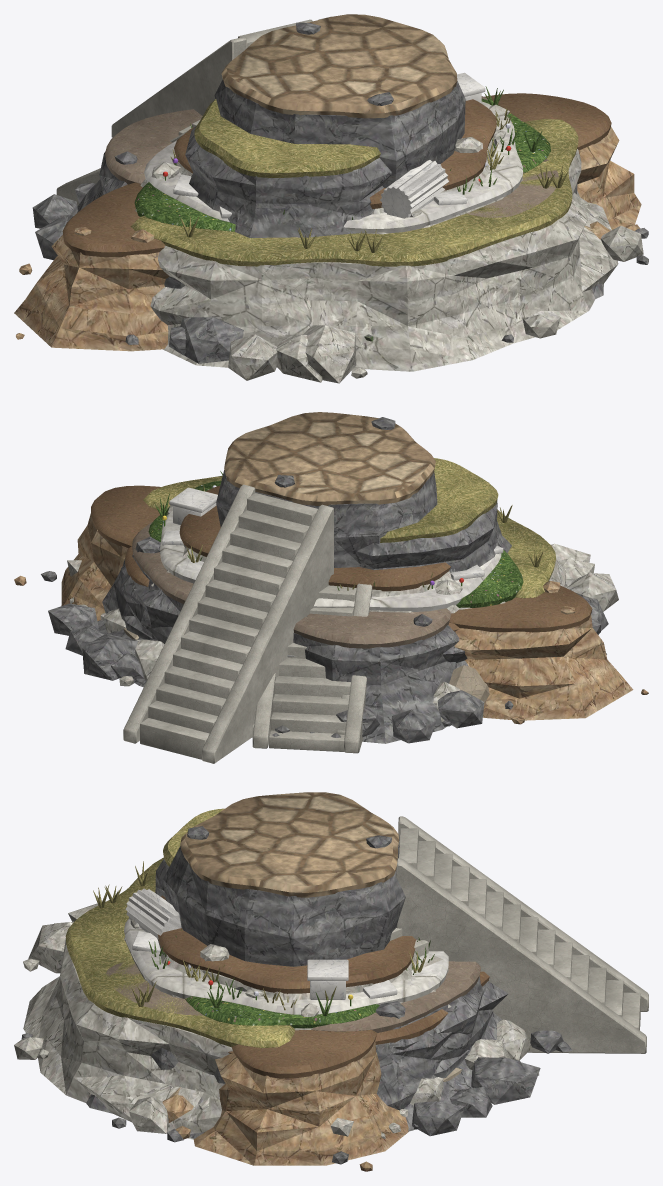
Rendered from Platformy.glb.
The picture shows the model from 3 angles, top to bottom: view 1: azimuth 30°, elevation 25°; view 2: azimuth 150°, elevation 25°; view 3: azimuth 270°, elevation 25°; orthographic projection. The views are drawn at different scales.
Visible parts, largest first — view 1: platforma_polksiezyc__cliff_white, platforma_wysoka__flagstone_dirt, platforma_dluga__cliff, platforma_polksiezyc__grass_dry, platforma_pietrowa__cliff_grey, platforma_wysoka__cliff_grey, platforma_dluga__dirt, platforma_pietrowa__grass_dry, platforma_marmurowa__paving_marble, platforma_l__ground_scattered, platforma_wysoka__limestone, platforma_owalna__grass_meadow (+7 smaller); view 2: platforma_wysoka__limestone, platforma_dluga__cliff, platforma_wysoka__flagstone_dirt, platforma_l__cliff_grey, platforma_pietrowa__cliff_grey, platforma_pietrowa__limestone, platforma_dluga__dirt, platforma_l__ground_scattered, platforma_wysoka__cliff_grey, platforma_pietrowa__grass_dry, platforma_schody__dirt, platforma_marmurowa__paving_marble (+10 smaller); view 3: platforma_wysoka__limestone, platforma_polksiezyc__cliff_white, platforma_wysoka__flagstone_dirt, platforma_dluga__cliff, platforma_wysoka__cliff_grey, platforma_polksiezyc__grass_dry, platforma_pietrowa__cliff_grey, platforma_schody__dirt, platforma_l__cliff_grey, platforma_marmurowa__paving_marble, platforma_dluga__dirt, platforma_l__ground_scattered (+8 smaller).
Boxes of the visible parts, x1,y1,x2,y2 form: platforma_polksiezyc__cliff_white: [150, 149, 643, 383]; platforma_wysoka__flagstone_dirt: [221, 14, 457, 118]; platforma_dluga__cliff: [14, 126, 641, 351]; platforma_polksiezyc__grass_dry: [130, 107, 578, 266]; platforma_pietrowa__cliff_grey: [35, 125, 648, 363]; platforma_wysoka__cliff_grey: [214, 22, 465, 187]; platforma_dluga__dirt: [62, 93, 611, 257]; platforma_pietrowa__grass_dry: [194, 99, 380, 177]; platforma_marmurowa__paving_marble: [144, 101, 522, 233]; platforma_l__ground_scattered: [105, 96, 558, 217]; platforma_wysoka__limestone: [111, 16, 330, 137]; platforma_owalna__grass_meadow: [134, 98, 550, 231]; platforma_wysoka__limestone: [123, 484, 333, 763]; platforma_dluga__cliff: [14, 513, 648, 724]; platforma_wysoka__flagstone_dirt: [224, 412, 435, 505]; platforma_l__cliff_grey: [82, 536, 459, 743]; platforma_pietrowa__cliff_grey: [41, 501, 608, 737]; platforma_pietrowa__limestone: [252, 642, 366, 753]; platforma_dluga__dirt: [91, 485, 592, 632]; platforma_l__ground_scattered: [132, 522, 451, 648]; platforma_wysoka__cliff_grey: [216, 417, 437, 567]; platforma_pietrowa__grass_dry: [380, 458, 498, 542]; platforma_schody__dirt: [179, 486, 450, 591]; platforma_marmurowa__paving_marble: [160, 510, 501, 611]; platforma_wysoka__limestone: [396, 816, 648, 1053]; platforma_polksiezyc__cliff_white: [14, 903, 232, 1139]; platforma_wysoka__flagstone_dirt: [180, 792, 398, 897]; platforma_dluga__cliff: [162, 1041, 408, 1171]; platforma_wysoka__cliff_grey: [163, 826, 405, 966]; platforma_polksiezyc__grass_dry: [65, 857, 296, 1048]; platforma_pietrowa__cliff_grey: [112, 858, 563, 1164]; platforma_schody__dirt: [158, 895, 415, 993]; platforma_l__cliff_grey: [21, 976, 572, 1129]; platforma_marmurowa__paving_marble: [124, 919, 448, 1014]; platforma_dluga__dirt: [231, 1030, 377, 1078]; platforma_l__ground_scattered: [106, 961, 480, 1032].
Bounding box in the file's own units: 26.66 × 8.46 × 23.03.
34 materials, 28 textured.
